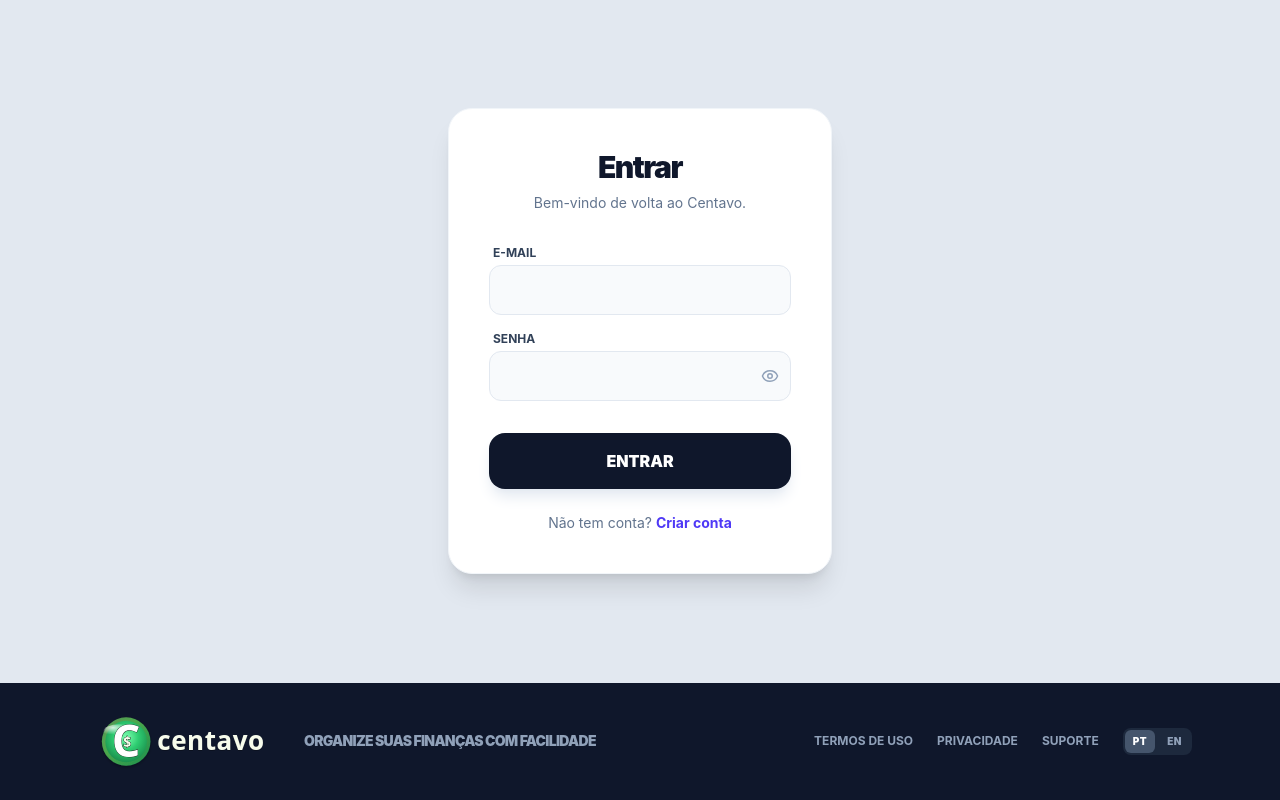
Scenario: Login › BFF fora do ar não é confundido com senha errada
Type "ana@centavo.test" into the field labelled "E-mail" at point(640, 290), box [489, 265, 791, 315]
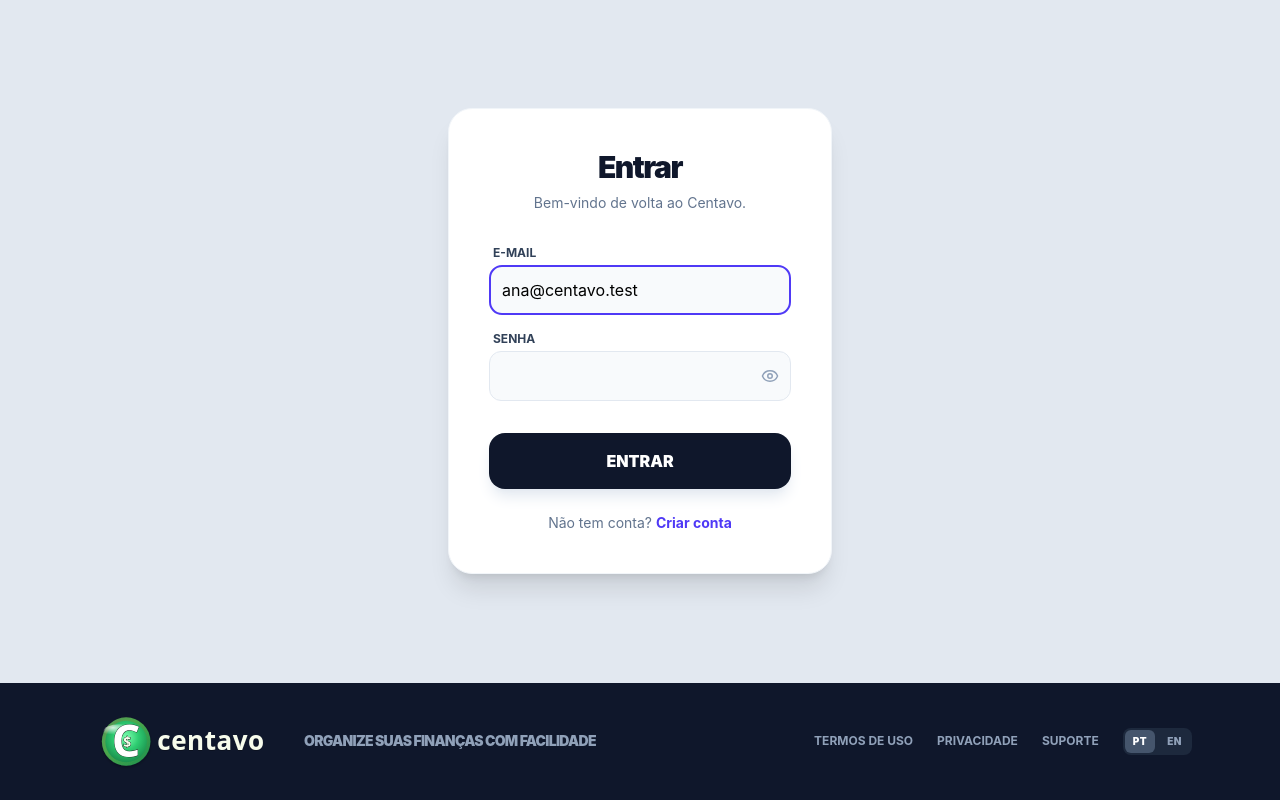
Type "secret123" into the password field labelled "Senha" at point(640, 376), box [489, 351, 791, 401]
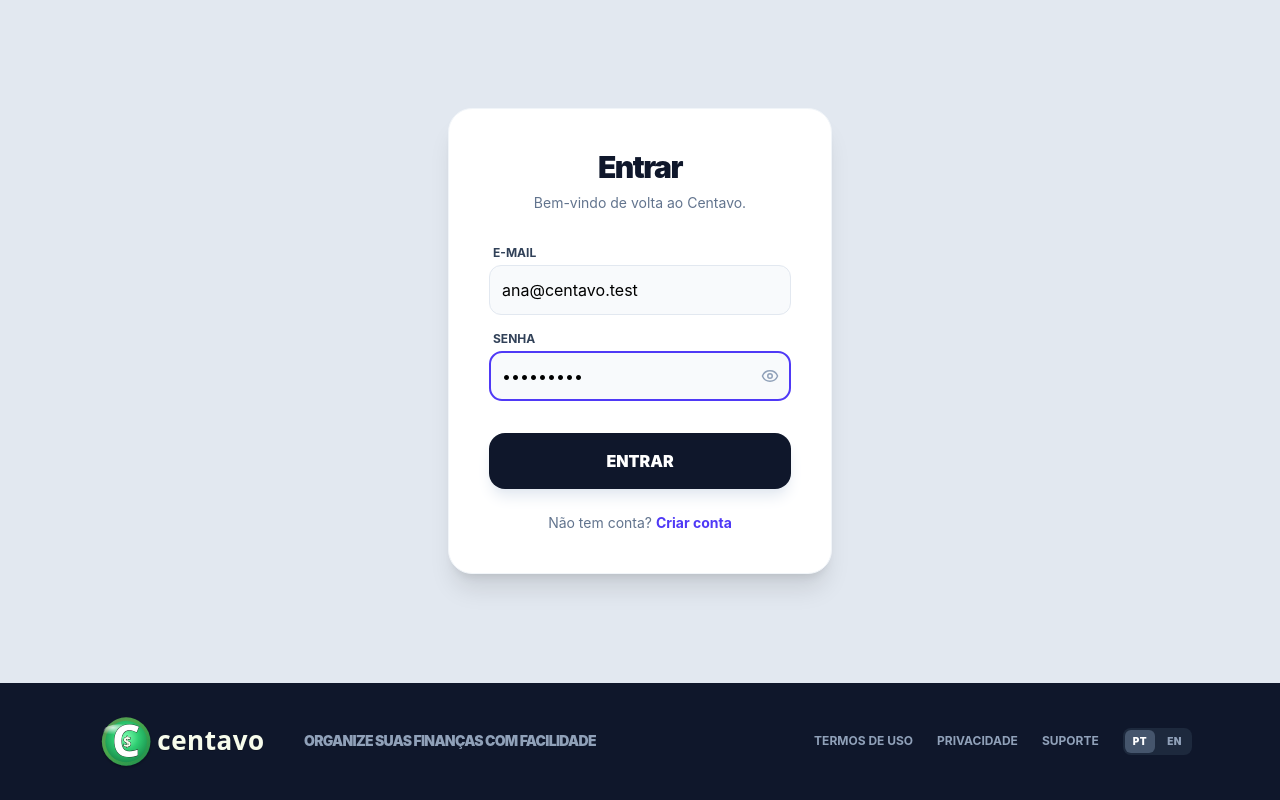
Click the button "ENTRAR" at point(640, 461), box [489, 433, 791, 489]
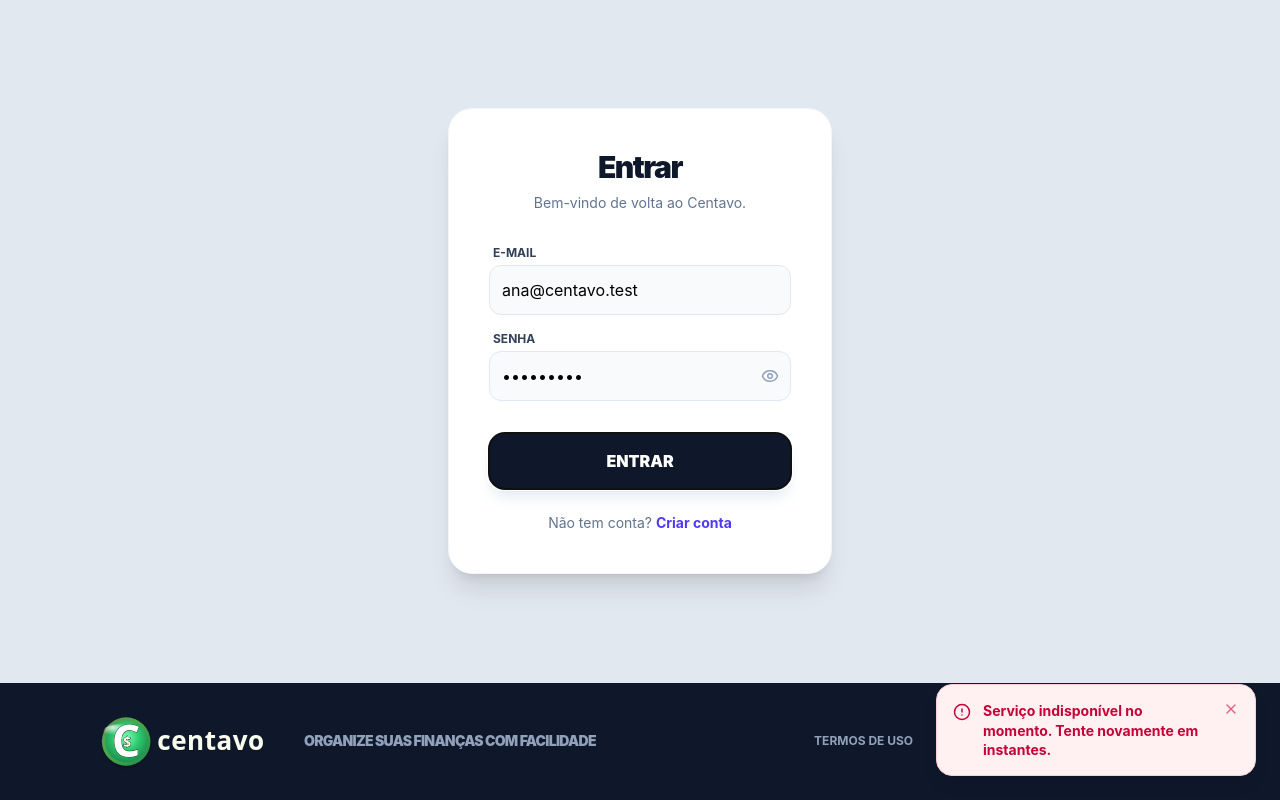
expect the message reads "Serviço indisponível no momento. Tente novamente em instantes.": met, box [983, 702, 1198, 758]
